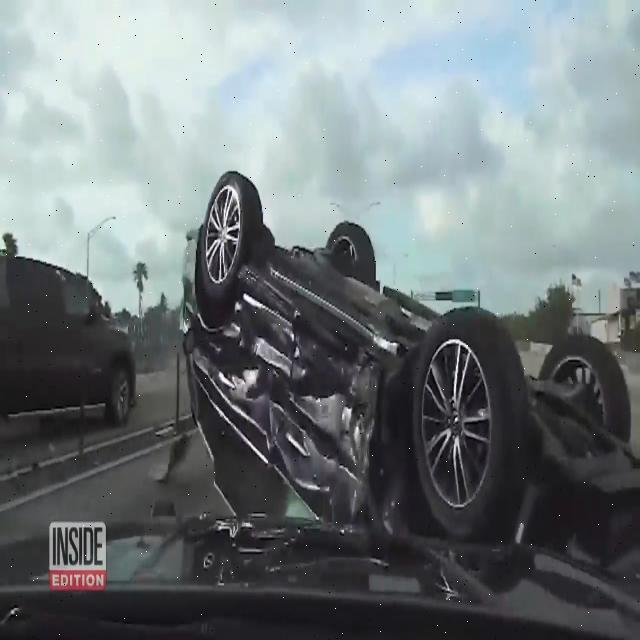accident: (181, 152, 640, 565)
